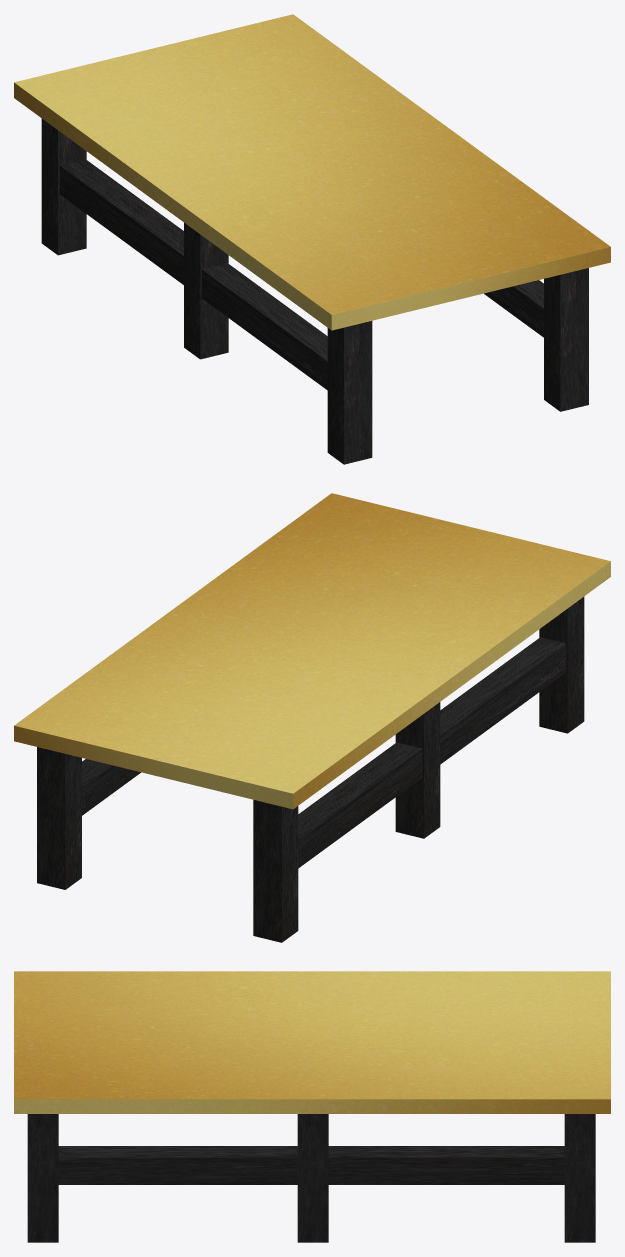
Rendered from Main_Desk.fbx.
3 views of the same model, one above another, from view 1: azimuth 30°, elevation 25°; view 2: azimuth 150°, elevation 25°; view 3: azimuth 270°, elevation 25° (orthographic). The views are drawn at different scales.
Parts seen in each view (by area): view 1: pCube4, pCube12, pCube6, pCube5, pCube7, pCube10, pCube11; view 2: pCube4, pCube12, pCube7, pCube8, pCube6, pCube10, pCube11; view 3: pCube4, pCube11, pCube5, pCube8, pCube9.
Part boxes in pixels (x1,y1,x2,y2): pCube4: (14,14,610,330); pCube12: (59,159,327,390); pCube6: (327,321,372,464); pCube5: (544,268,588,411); pCube7: (41,118,86,255); pCube10: (184,223,228,359); pCube11: (484,280,543,337); pCube4: (14,493,610,809); pCube12: (298,637,566,868); pCube7: (253,800,298,942); pCube8: (37,747,81,889); pCube6: (539,596,584,733); pCube10: (395,702,440,838); pCube11: (82,759,140,815); pCube4: (14,971,610,1113); pCube11: (58,1146,564,1184); pCube5: (27,1114,58,1242); pCube8: (564,1114,595,1242); pCube9: (297,1114,328,1242).
Size of the model in its own units: 14.33 by 7.84 by 28.25.
2 materials, 2 textured.
